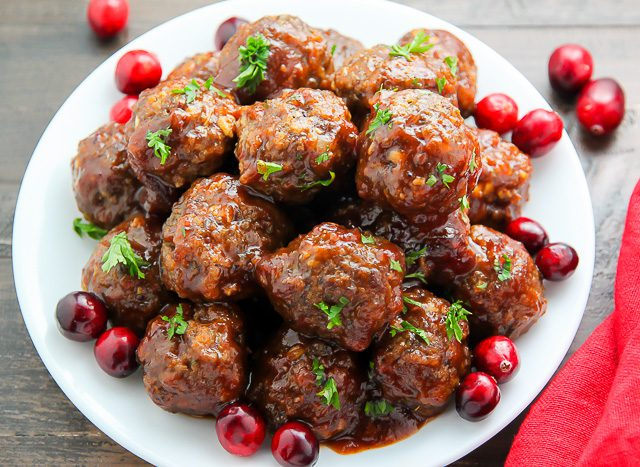meatballs: (134, 94, 461, 385)
